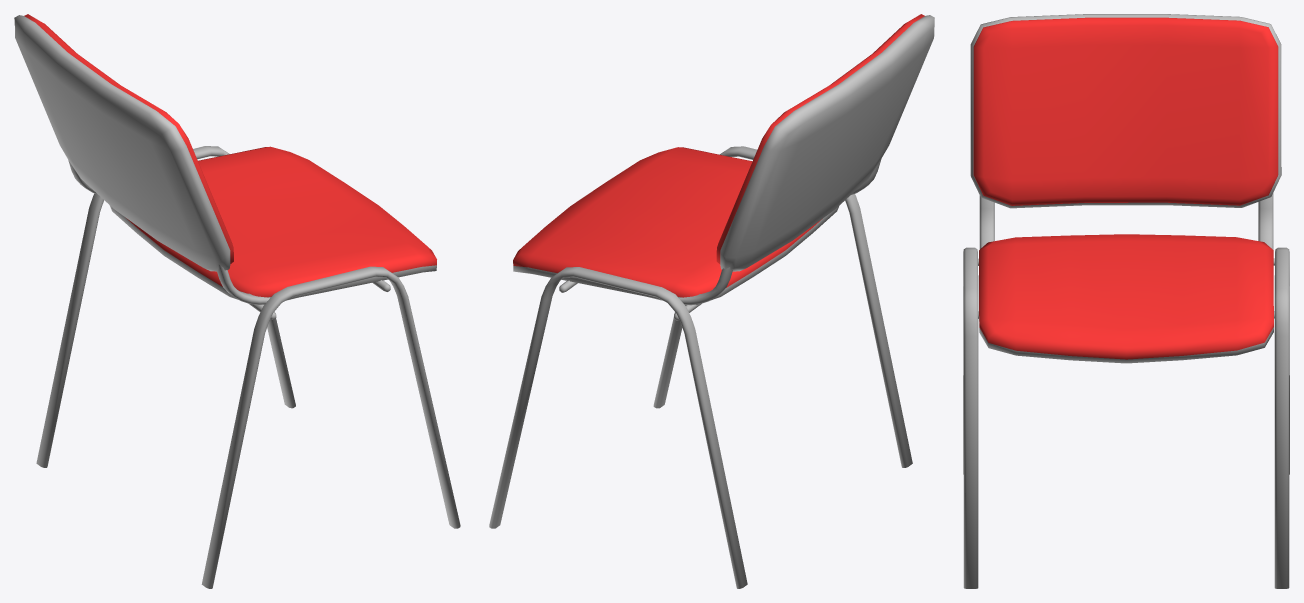
The model's file is chair_1.FBX.
3 renders of one model, left to right at view 1: azimuth 30°, elevation 25°; view 2: azimuth 150°, elevation 25°; view 3: azimuth 270°, elevation 25°, orthographic. The views are drawn at different scales.
Visible parts, largest first — view 1: chair_1; view 2: chair_1; view 3: chair_1.
Part boxes in pixels (box(x1,y1,x2,y2)): chair_1: box(14, 14, 460, 588); chair_1: box(489, 14, 934, 588); chair_1: box(963, 14, 1289, 588).
Bounding box in the file's own units: 0.5638 × 0.8276 × 0.5546.
